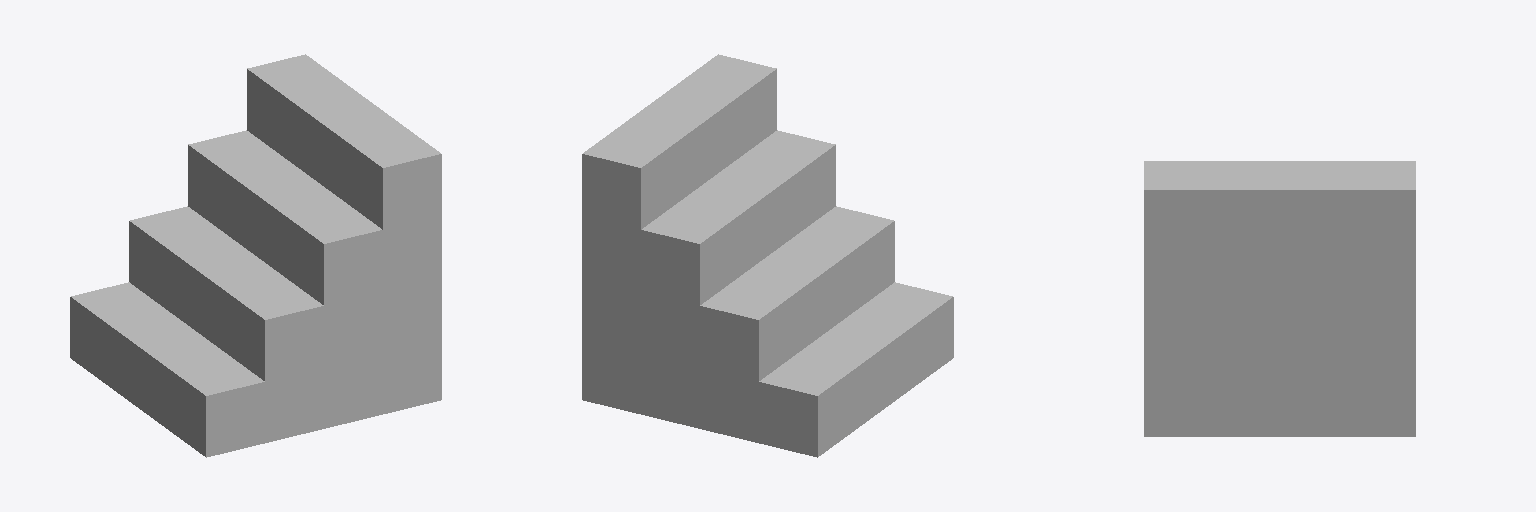
The model's file is Stairs.obj.
3 views of the same model, side by side, from view 1: azimuth 30°, elevation 25°; view 2: azimuth 150°, elevation 25°; view 3: azimuth 270°, elevation 25° (orthographic).
Visible parts, largest first — view 1: Plane_Plane.001; view 2: Plane_Plane.001; view 3: Plane_Plane.001.
Boxes of the visible parts, box(x1,y1,x2,y2) form: Plane_Plane.001: box(70, 54, 441, 457); Plane_Plane.001: box(582, 54, 953, 457); Plane_Plane.001: box(1144, 161, 1415, 436).
Size of the model in its own units: 1 by 1 by 1.